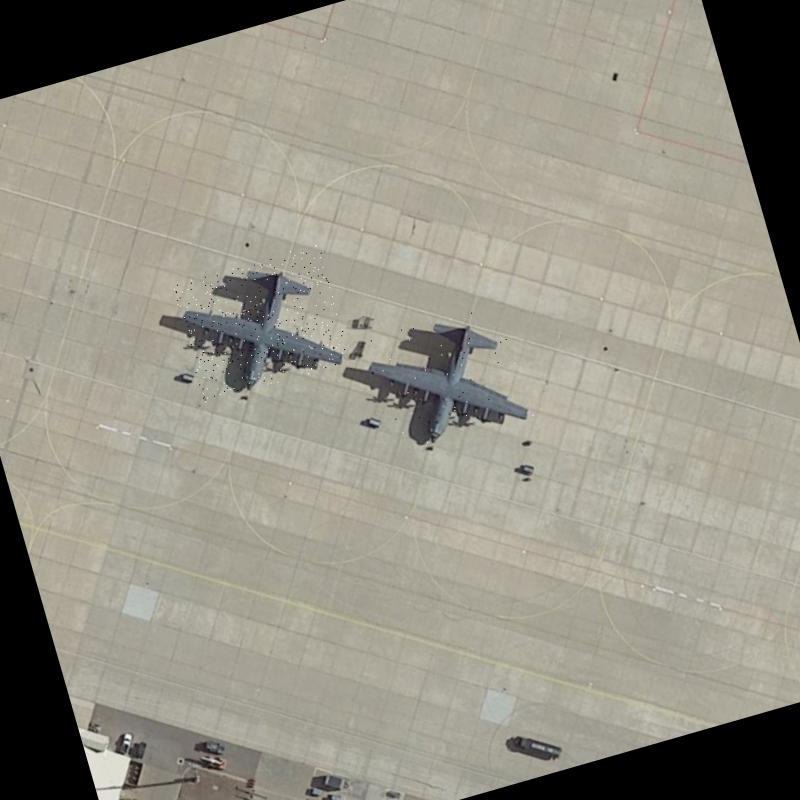A2: (170, 242, 353, 403), (356, 296, 535, 458)
